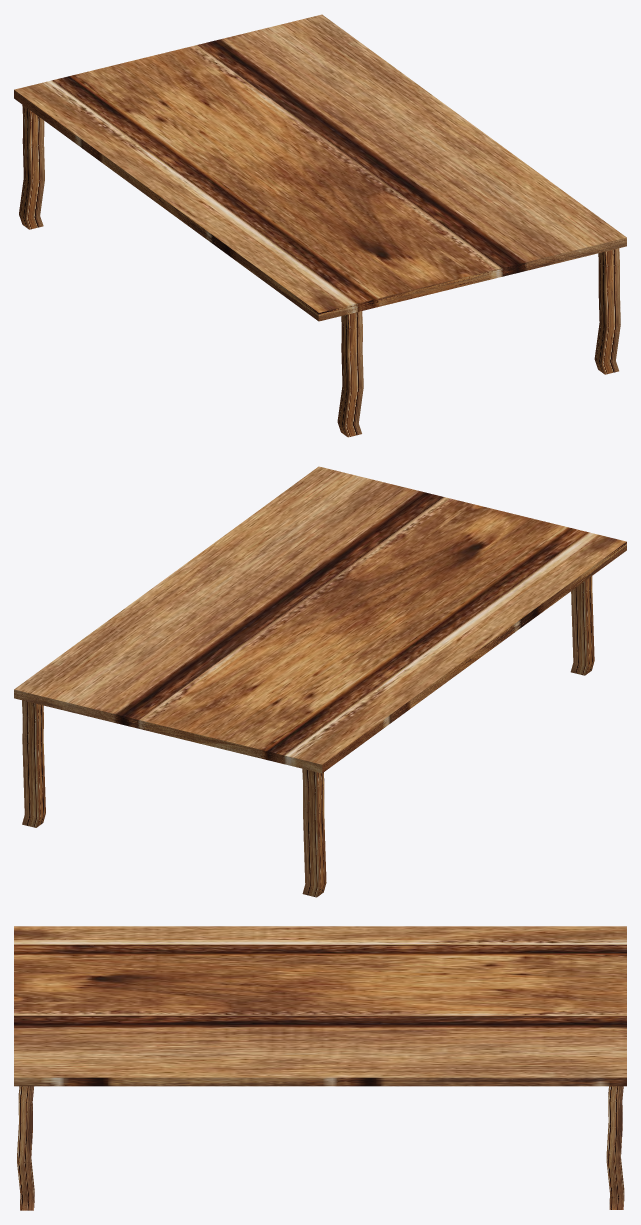
Rendered from Table_Wtexture.fbx.
The picture shows the model from 3 angles, top to bottom: view 1: azimuth 30°, elevation 25°; view 2: azimuth 150°, elevation 25°; view 3: azimuth 270°, elevation 25°; orthographic projection.
Visible parts, largest first — view 1: pCube6; view 2: pCube6; view 3: pCube6.
Part boxes in pixels (<box>): pCube6: <box>14,14,626,437</box>; pCube6: <box>14,466,626,897</box>; pCube6: <box>14,926,626,1210</box>.
Size of the model in its own units: 3.03 by 1.27 by 5.19.
1 material, 1 textured.
